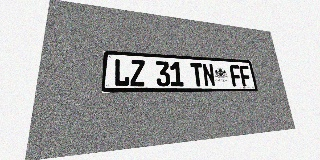1: (169, 62, 184, 86)
3: (156, 61, 170, 86)
F: (229, 65, 243, 86), (239, 65, 252, 86)
L: (114, 59, 130, 86)
N: (202, 63, 216, 86)
T: (190, 63, 204, 86)
Z: (130, 59, 145, 86)
